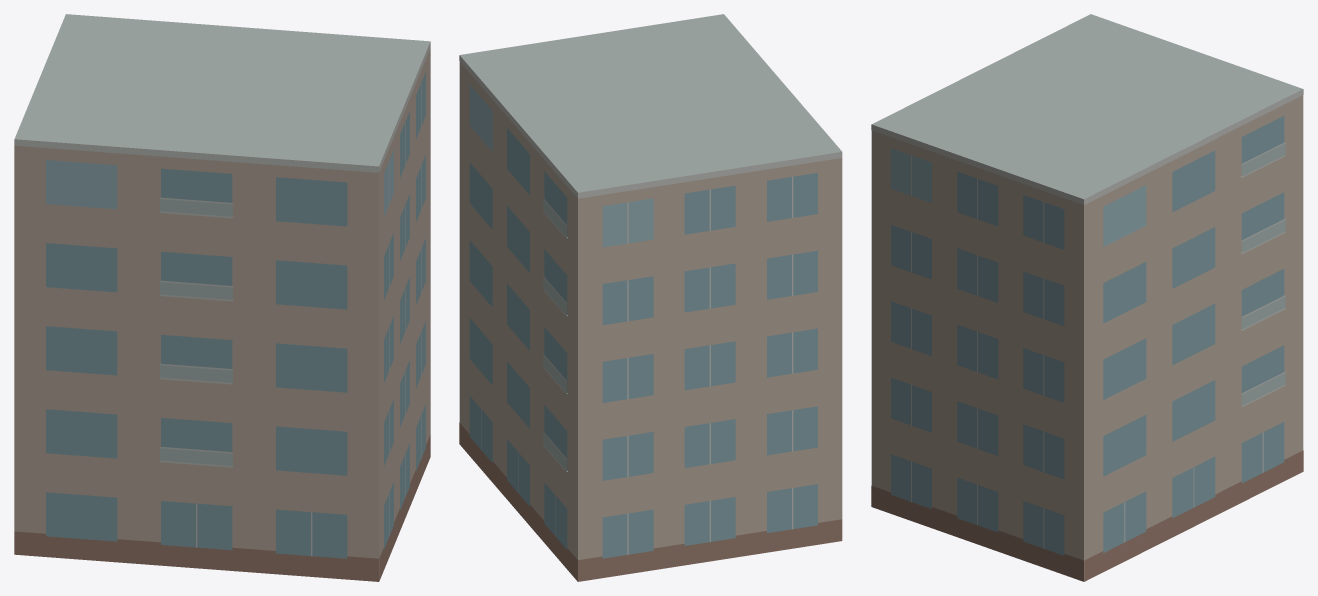
The model's file is survey-upis-32888576.glb.
3 views of the same model, side by side, from view 1: azimuth 30°, elevation 25°; view 2: azimuth 150°, elevation 25°; view 3: azimuth 270°, elevation 25° (orthographic). The views are drawn at different scales.
Parts seen in each view (by area): view 1: survey-upis-32888576.tmp; view 2: survey-upis-32888576.tmp; view 3: survey-upis-32888576.tmp.
Boxes of the visible parts, x1=… form: survey-upis-32888576.tmp: x1=14, y1=14, x2=430, y2=581; survey-upis-32888576.tmp: x1=459, y1=14, x2=842, y2=581; survey-upis-32888576.tmp: x1=871, y1=14, x2=1303, y2=581.
Bounding box in the file's own units: 16.53 × 15.9 × 16.28.
